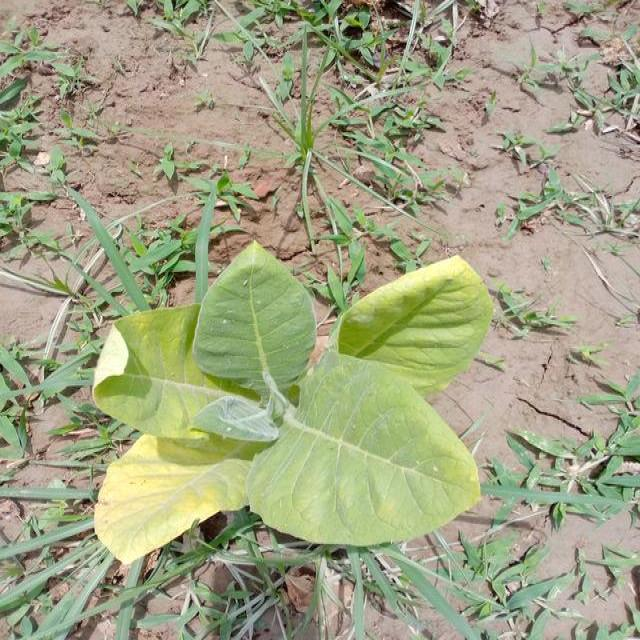crop: (101, 239, 488, 573)
